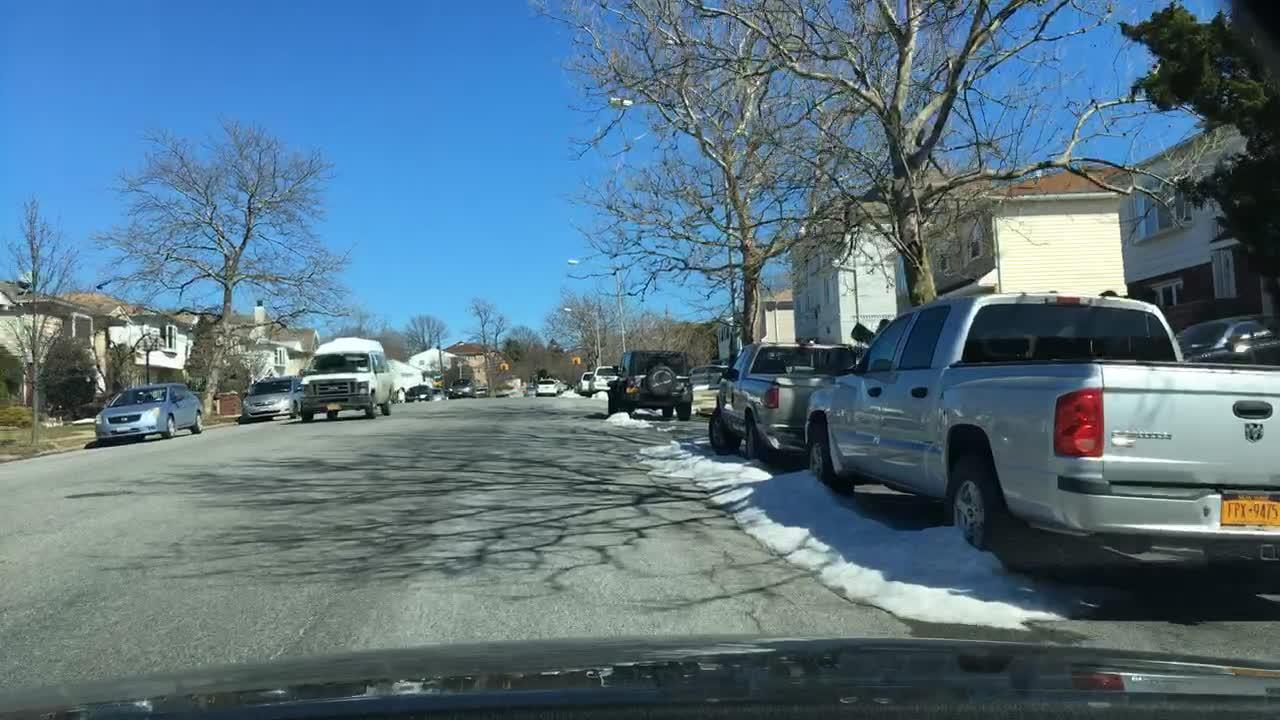ram: (1236, 418, 1268, 448)
